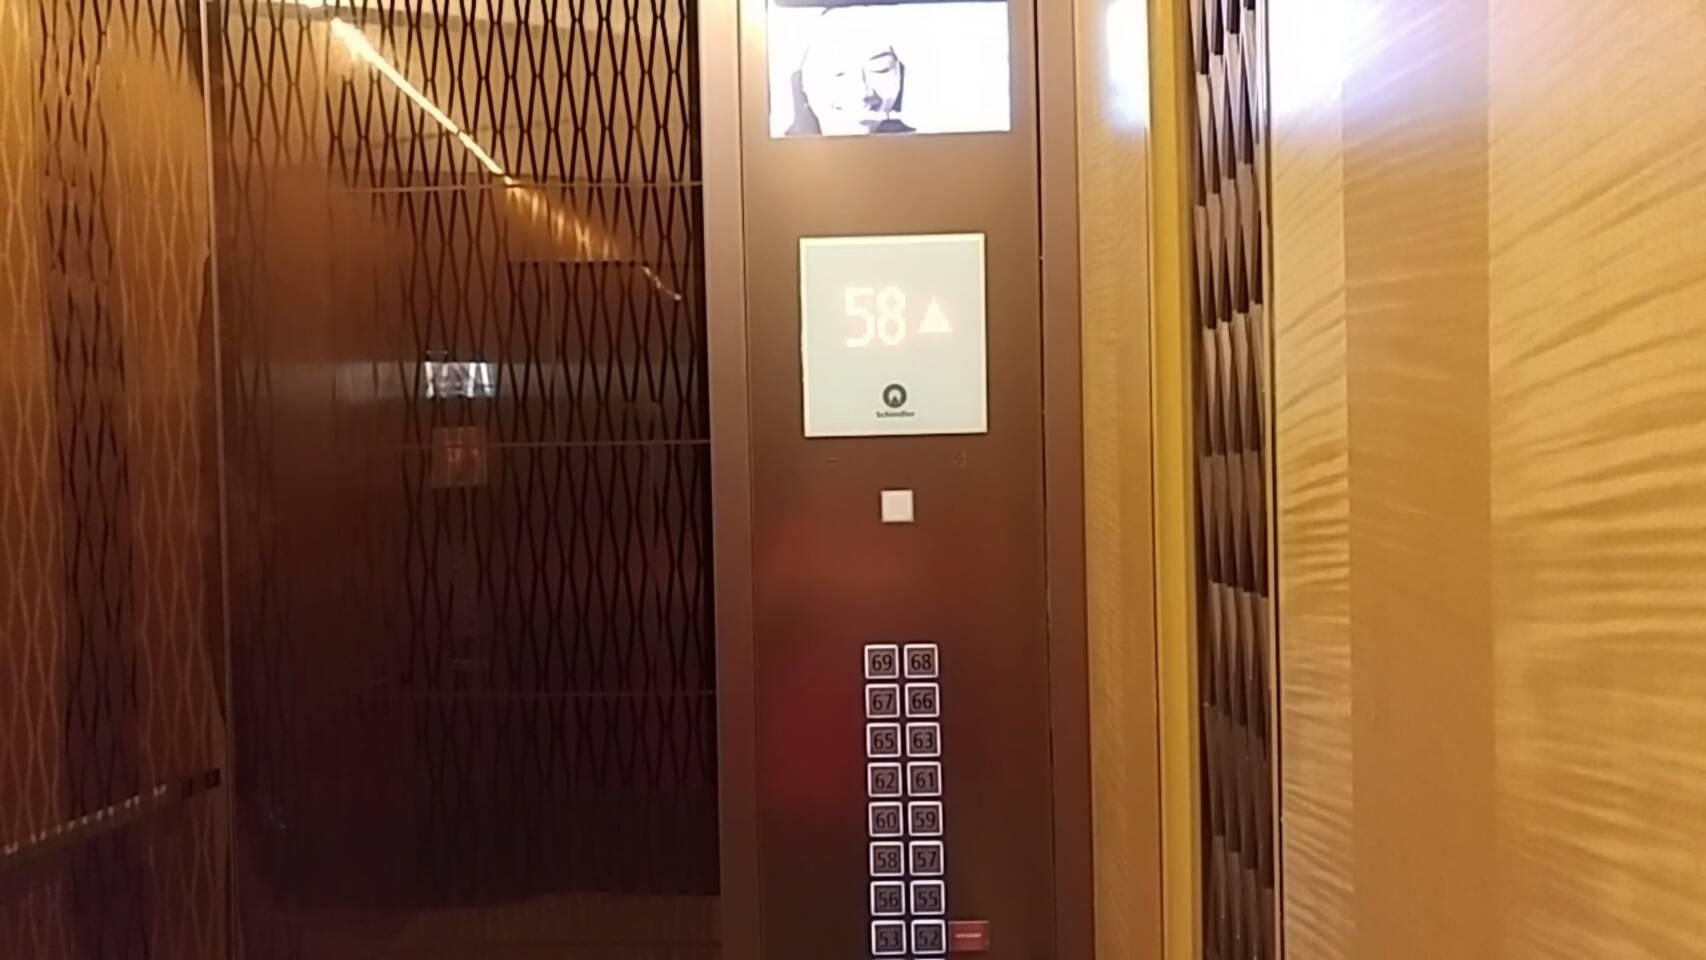52: (910, 919, 947, 956)
53: (871, 920, 908, 956)
55: (909, 879, 946, 915)
56: (871, 880, 907, 917)
57: (908, 840, 946, 877)
58: (869, 840, 906, 877)
59: (907, 799, 944, 837)
60: (868, 801, 905, 838)
61: (905, 761, 942, 798)
62: (866, 761, 903, 798)
63: (905, 721, 941, 758)
65: (865, 722, 902, 760)
66: (905, 682, 941, 719)
67: (864, 682, 901, 719)
68: (902, 644, 939, 680)
69: (864, 644, 900, 680)
empty: (876, 484, 917, 526)
led: (794, 230, 992, 441)
